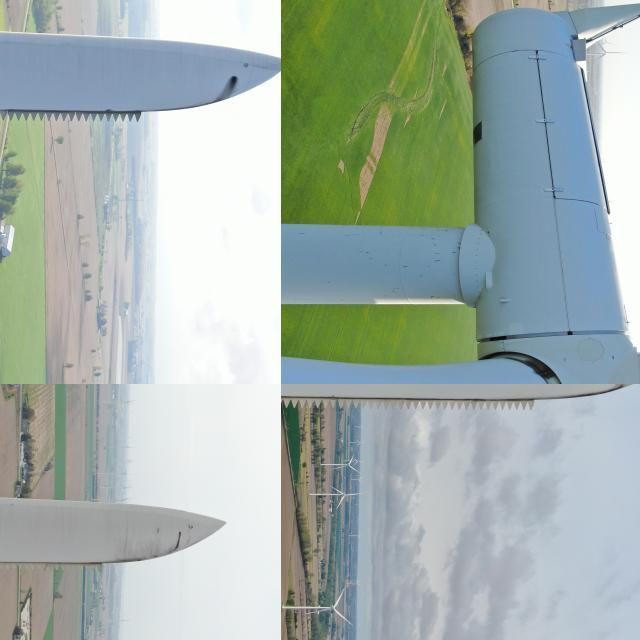damage: (510, 346, 570, 382), (216, 75, 242, 103), (170, 530, 184, 552), (609, 384, 632, 394)
